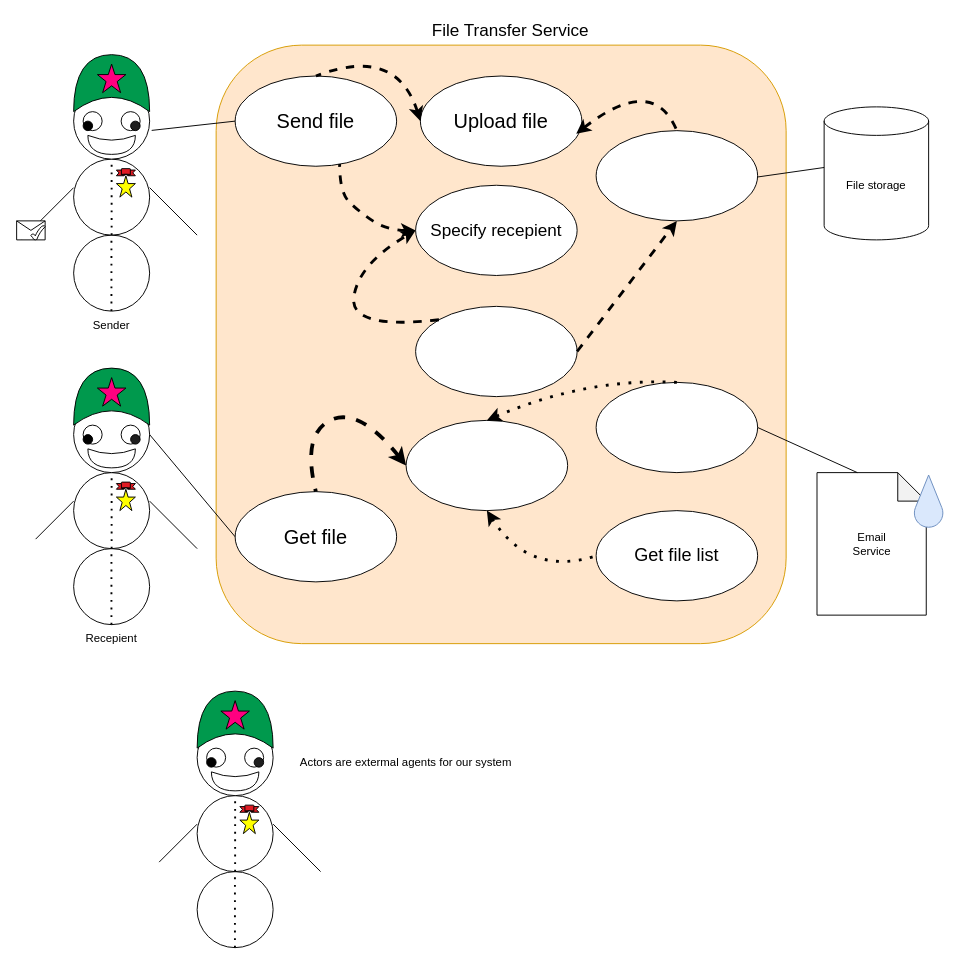
The diagram is 960 pixels wide and 965 high, and some of its shapes have lost their labels. Here are the shapes that lost their labels. From the top down, the centre of each, then its label:
the point at 676,175: Store file
the point at 496,351: Save file recepient
the point at 676,427: Send email
the point at 486,465: Get avilable
